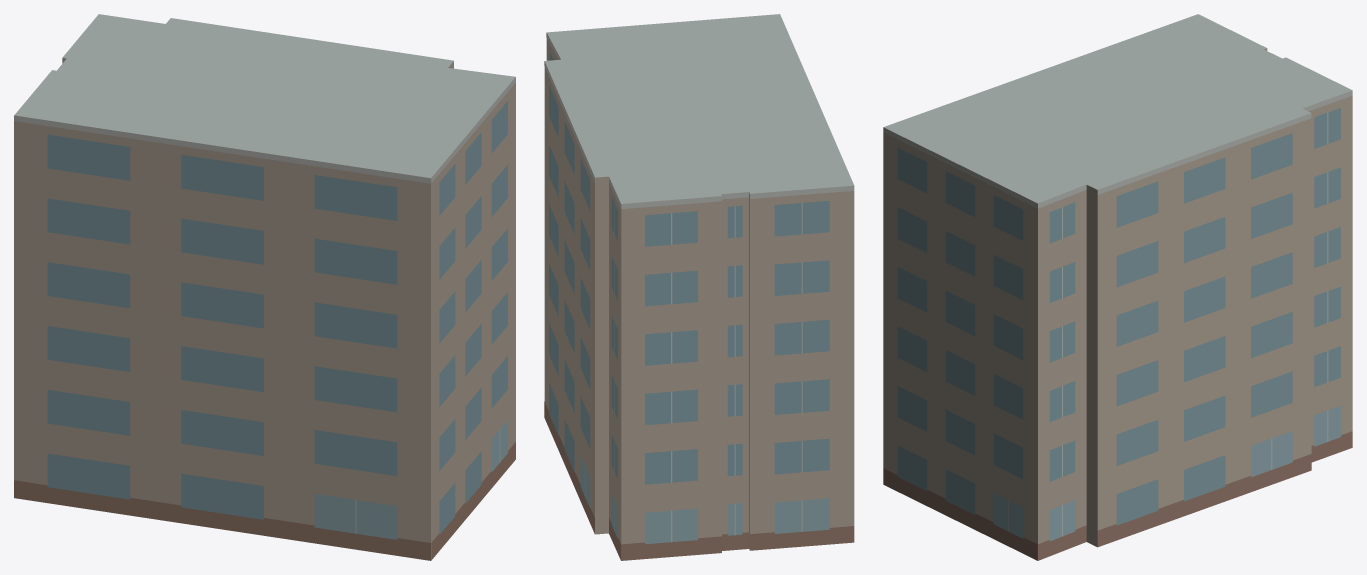
File: survey-upis-33042499.glb
The picture shows the model from 3 angles, left to right: view 1: azimuth 30°, elevation 25°; view 2: azimuth 150°, elevation 25°; view 3: azimuth 270°, elevation 25°; orthographic projection. The views are drawn at different scales.
Parts seen in each view (by area): view 1: survey-upis-33042499.tmp; view 2: survey-upis-33042499.tmp; view 3: survey-upis-33042499.tmp.
Boxes of the visible parts, bbox=[...] form: survey-upis-33042499.tmp: bbox=[14, 14, 515, 560]; survey-upis-33042499.tmp: bbox=[544, 14, 854, 560]; survey-upis-33042499.tmp: bbox=[883, 14, 1352, 560].
Bounding box in the file's own units: 19 × 16.7 × 19.89.
